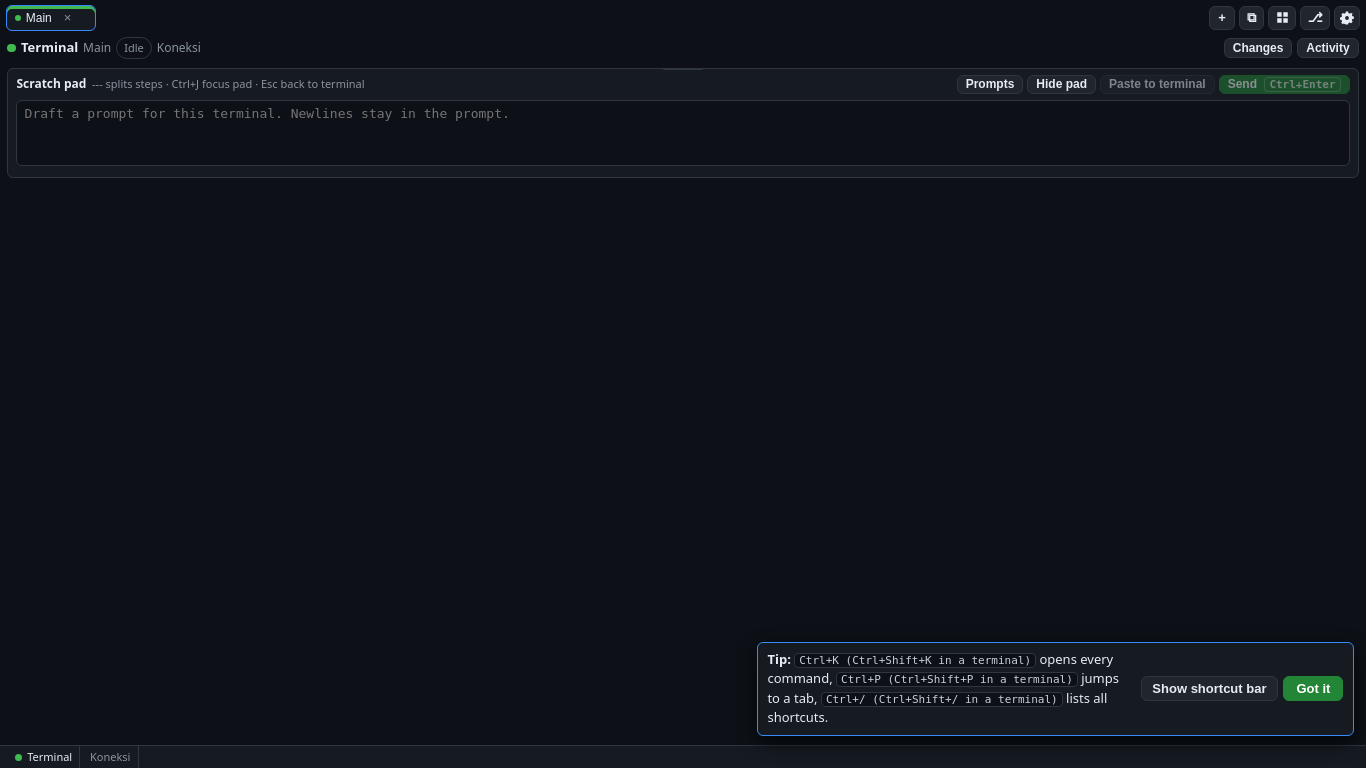
Scenario: worktree tabs › never touches git until the user creates one, then opens the new tab
Expected: the element "Scratch pad" is shown, [7, 68, 1359, 178]
Click the button named "New tab in worktree…" at (1315, 18), box [1300, 6, 1330, 30]
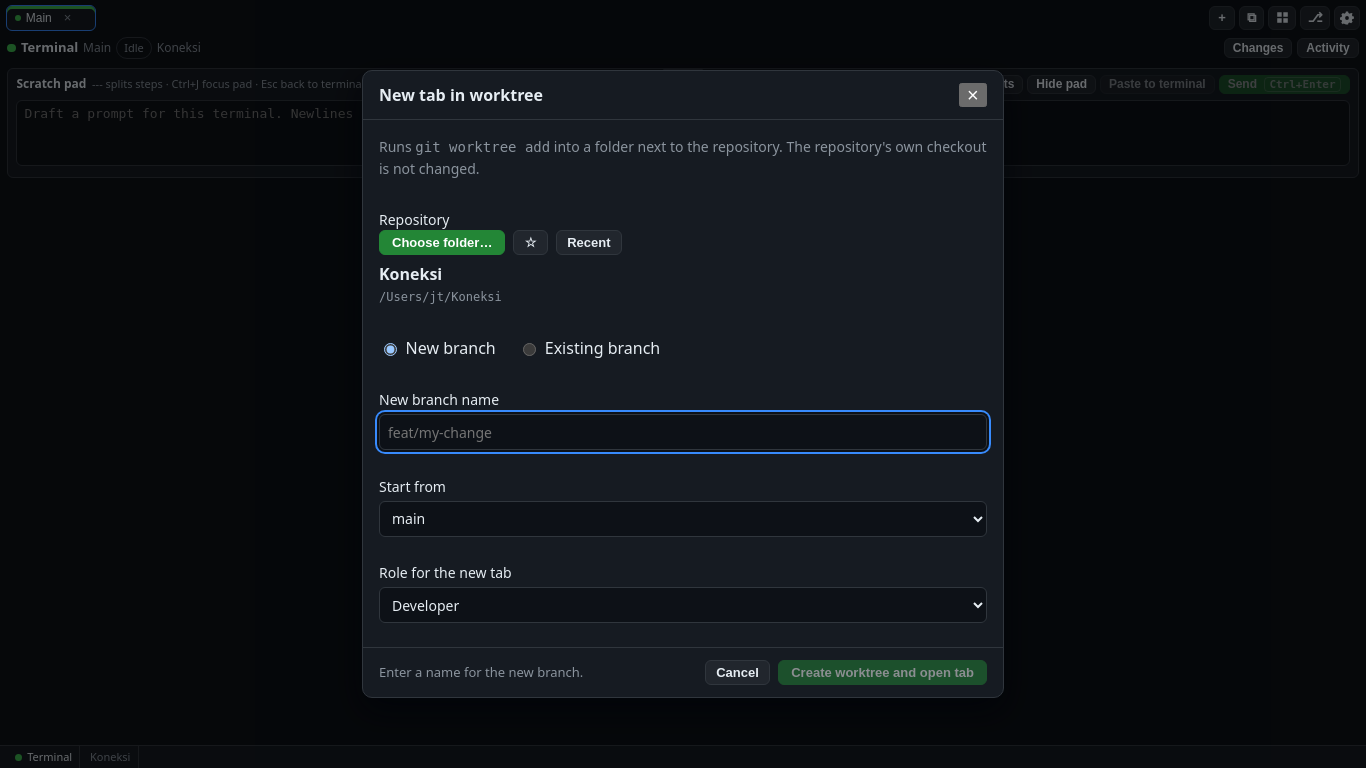
Expected: the dialog "New tab in worktree" is shown, [362, 70, 1004, 698]
Type "feat/login" into the field labelled "New branch name" at (683, 432), box [379, 414, 987, 450]
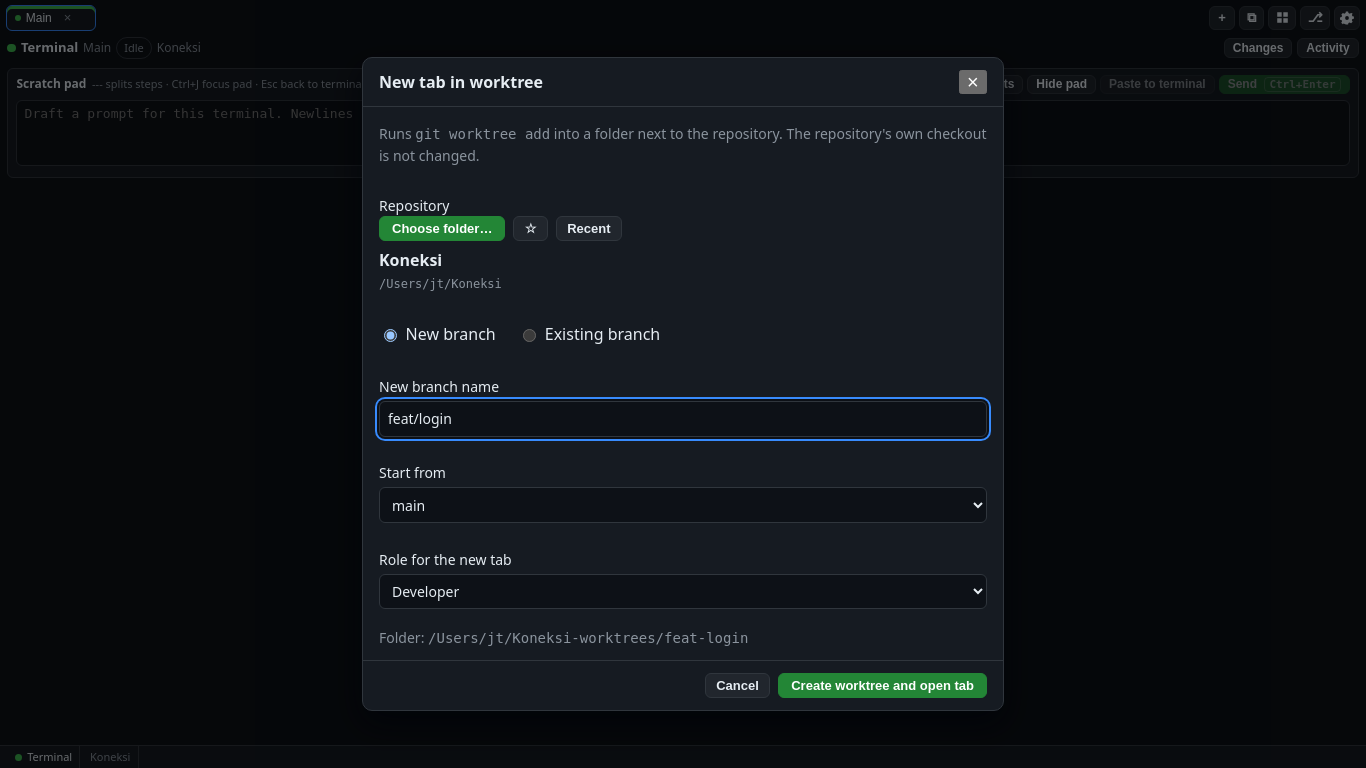
Expected: the text "/Users/jt/Koneksi-worktrees/feat-login" is shown, [428, 630, 748, 646]
Click the button "Create worktree and open tab" at (883, 686), box [778, 673, 987, 698]
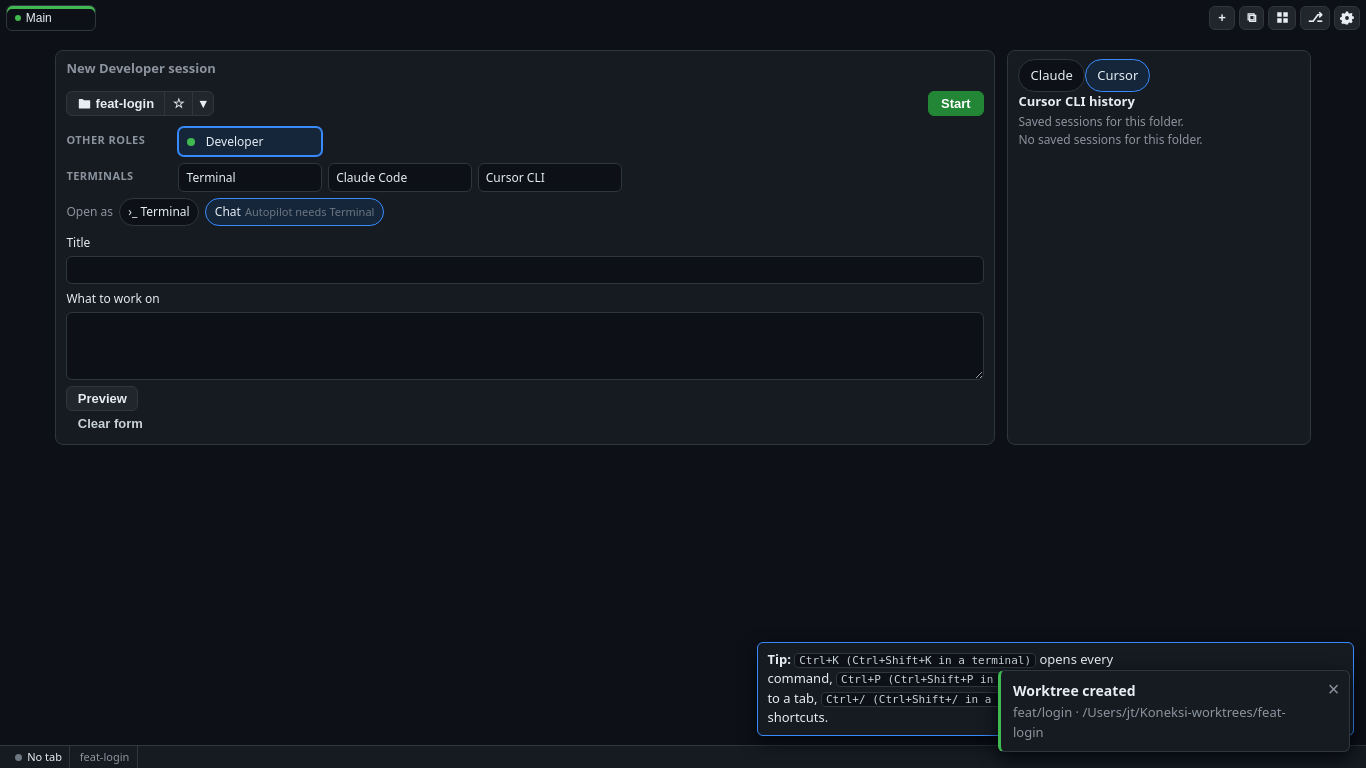
Expected: the heading "New tab in worktree" is gone
Expected: the text "Worktree created" is shown, [1013, 680, 1136, 701]
